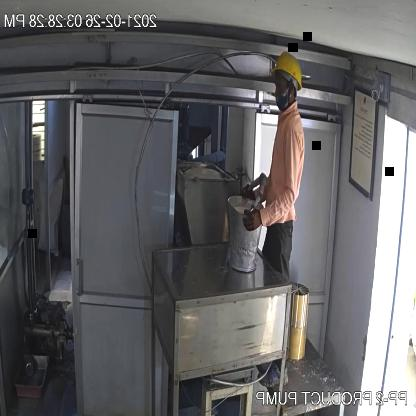helmet: (269, 51, 306, 87)
